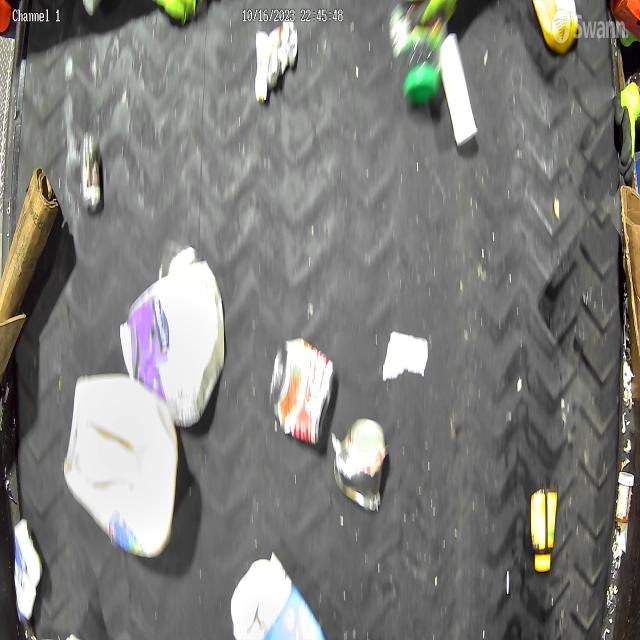can: (269, 339, 335, 447), (333, 416, 389, 514)
milk_jug: (64, 371, 180, 560)
non_white_jug: (120, 260, 224, 428), (228, 556, 333, 639)
